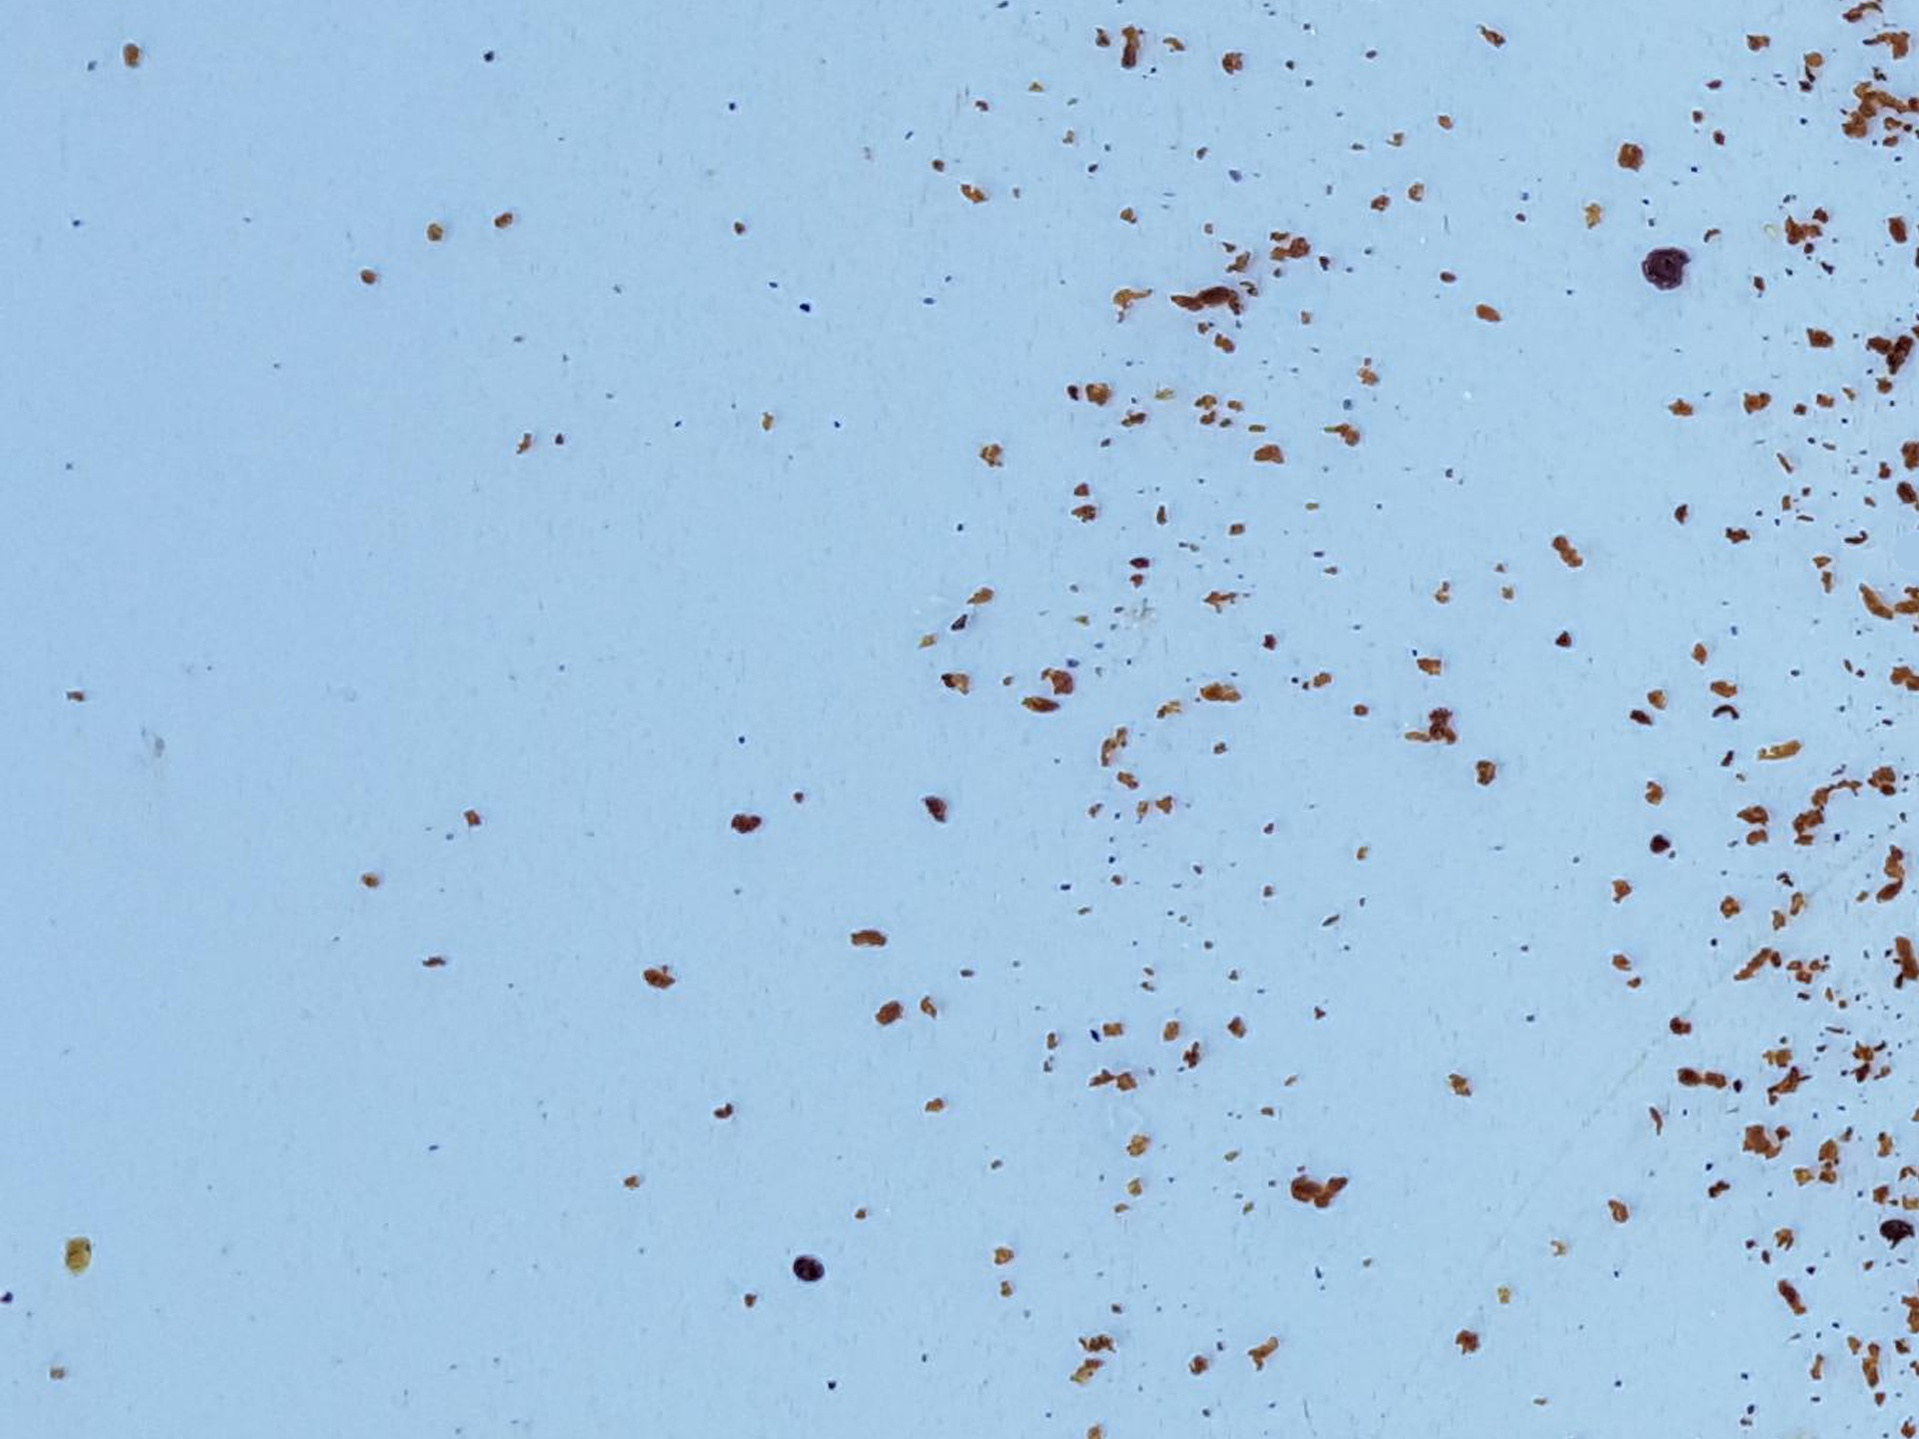Varroa: (793, 1256, 820, 1285), (1881, 1215, 1908, 1242)
